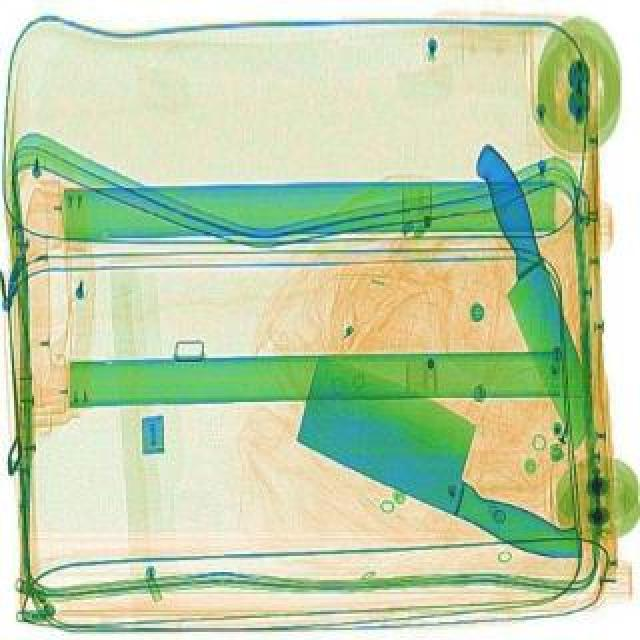knife: (270, 344, 622, 576), (462, 136, 610, 452)
